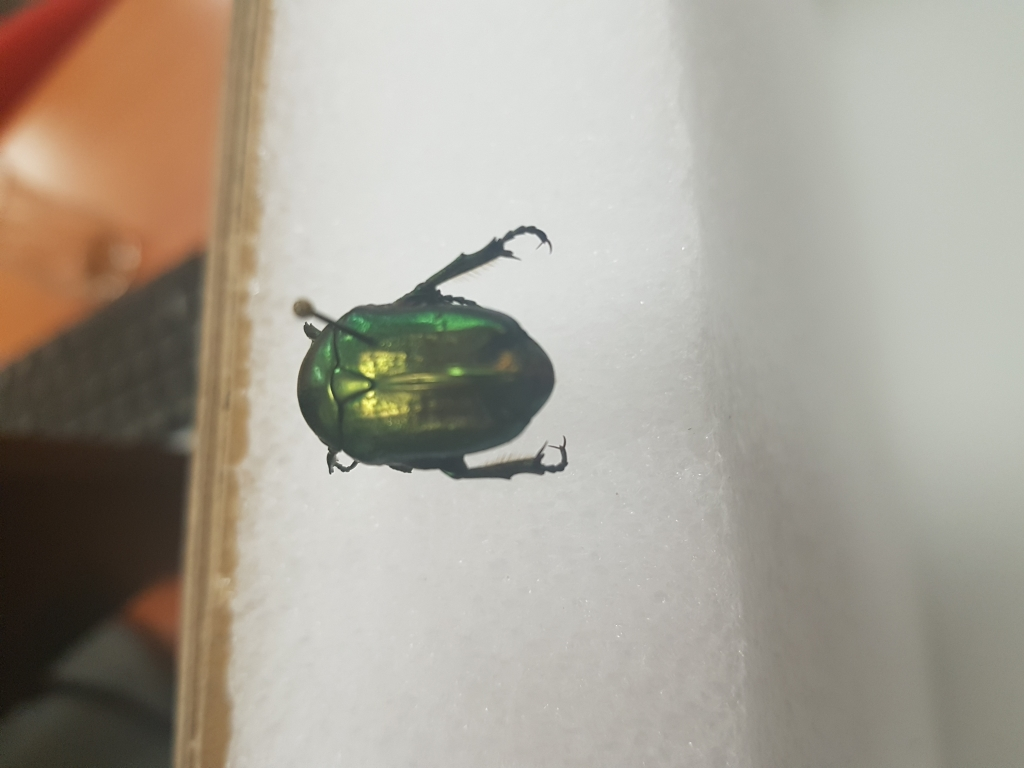Cetonia_aurata: (273, 221, 578, 493)
